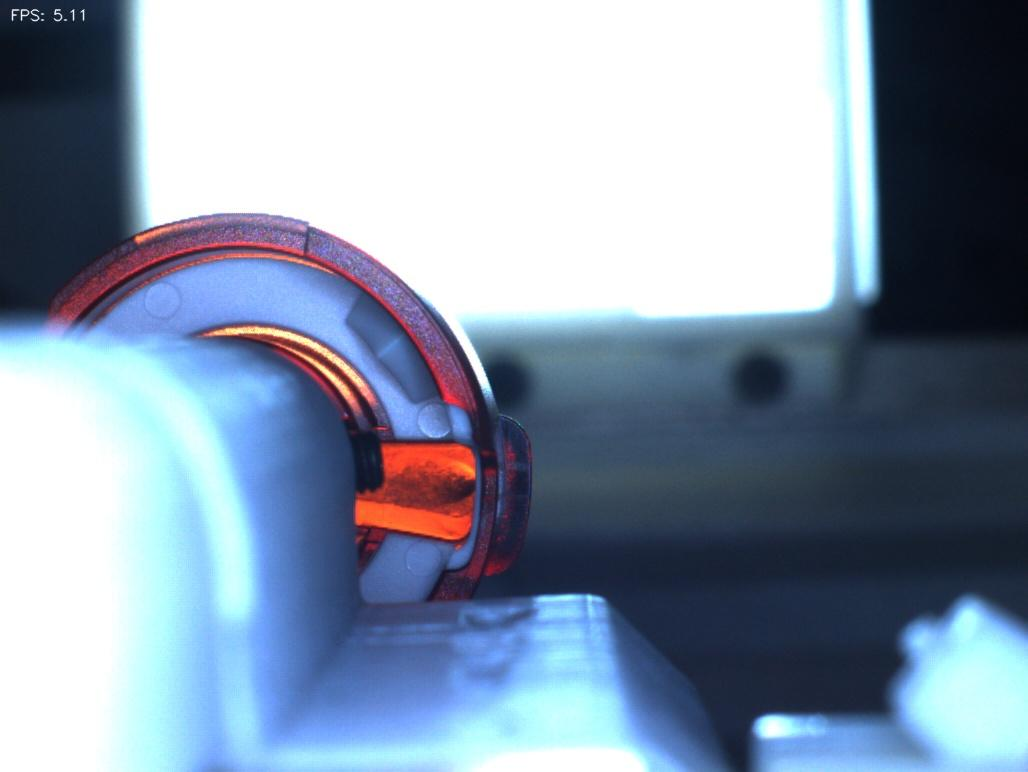Retassure: (384, 444, 479, 530)
